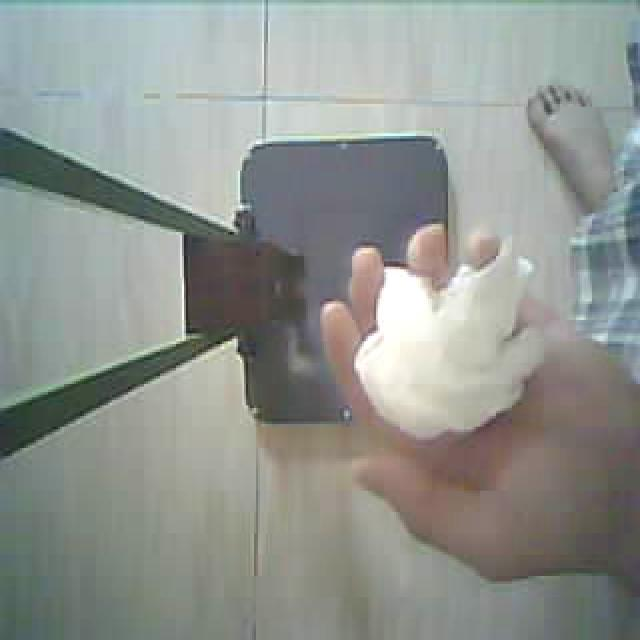Paper: (324, 197, 570, 497)
